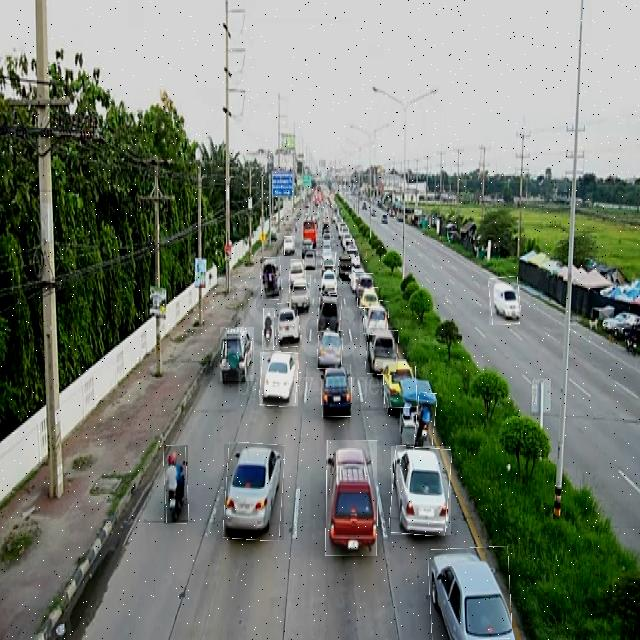Car: (429, 547, 511, 640), (326, 440, 377, 556), (224, 444, 284, 540), (391, 446, 451, 535), (260, 352, 298, 406), (383, 362, 417, 408), (322, 365, 352, 417), (489, 276, 520, 325), (276, 303, 302, 348), (318, 330, 342, 369), (363, 301, 389, 335), (290, 275, 311, 310), (340, 252, 356, 280), (358, 288, 379, 308), (290, 260, 306, 286), (354, 273, 373, 294), (321, 268, 337, 292), (304, 249, 316, 270), (284, 236, 295, 255), (322, 252, 336, 266), (321, 238, 333, 248)
Motorcycle: (164, 445, 188, 524), (416, 393, 436, 448), (263, 308, 274, 351)
Truck: (220, 328, 254, 382), (366, 328, 398, 374), (260, 258, 282, 300), (318, 295, 342, 333)
